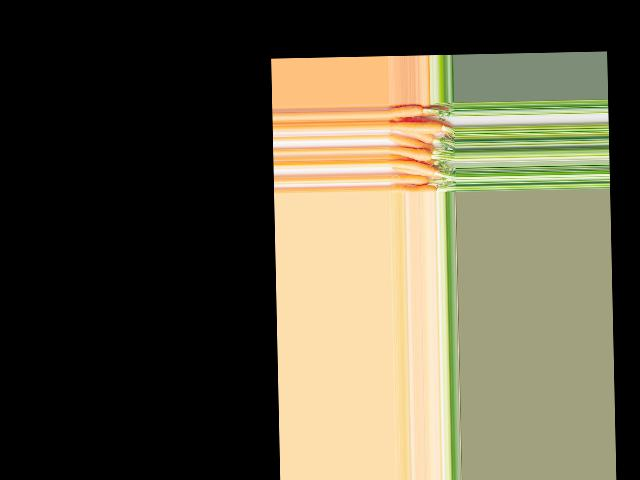carrot: (386, 103, 429, 117)
